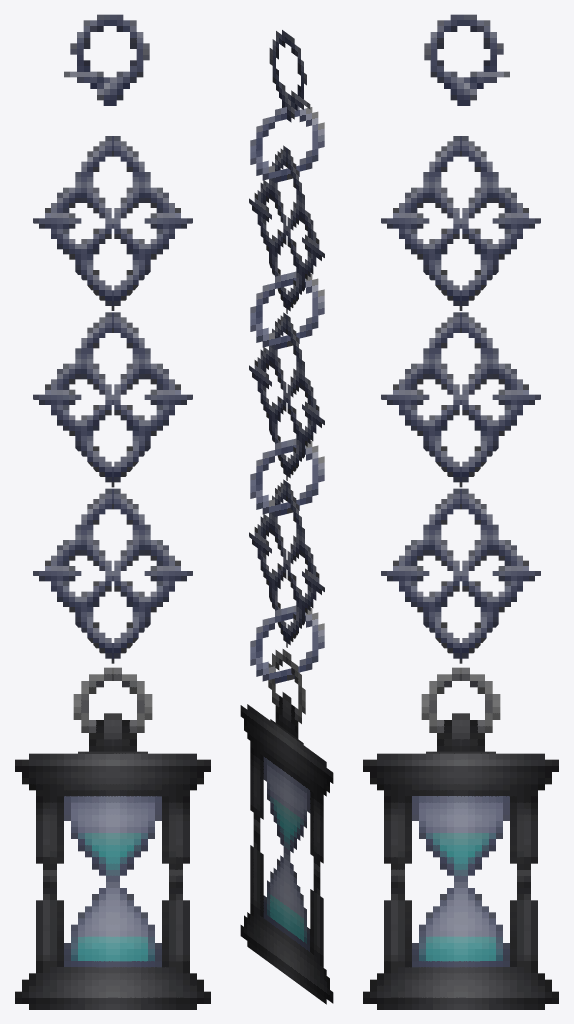
The model's file is nonamebbs_keychain.obj.
3 renders of one model, left to right at view 1: azimuth 90°, elevation 25°; view 2: azimuth 210°, elevation 25°; view 3: azimuth 270°, elevation 25°, orthographic. The views are drawn at different scales.
Parts seen in each view (by area): view 1: keychain; view 2: keychain; view 3: keychain.
Part boxes in pixels (bbox=[...]): keychain: bbox=[15, 14, 210, 1009]; keychain: bbox=[240, 30, 333, 1004]; keychain: bbox=[363, 14, 558, 1009].
Size of the model in its own units: 3.29 by 33.9 by 6.11.
